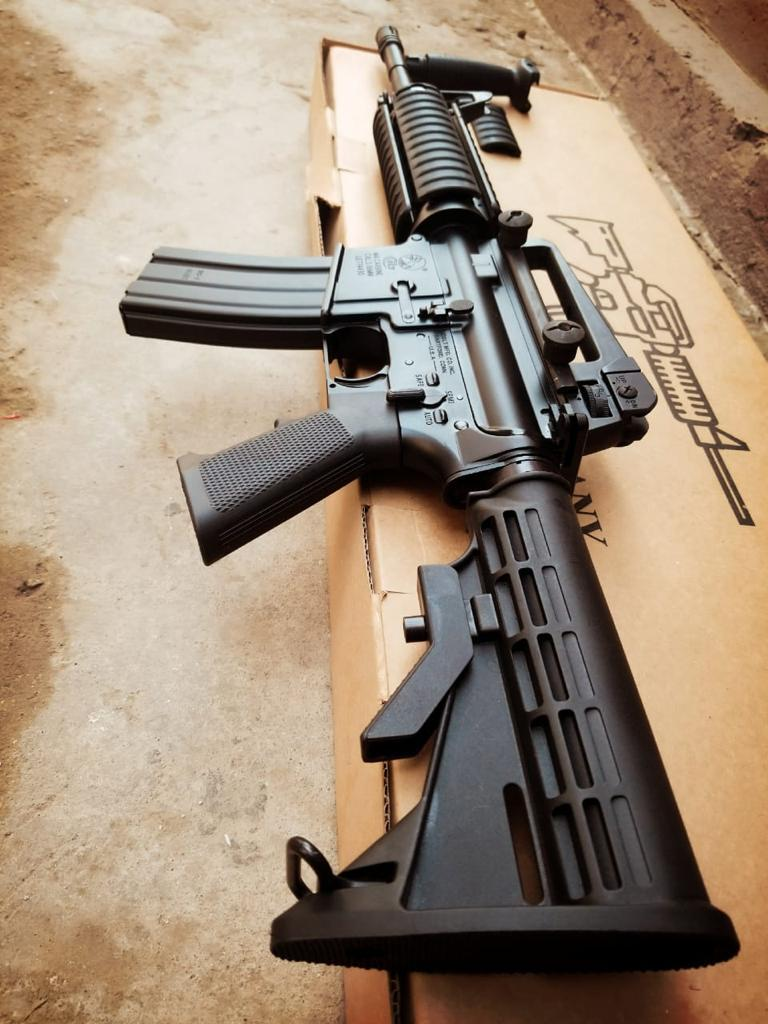weapon: (121, 22, 738, 975)
